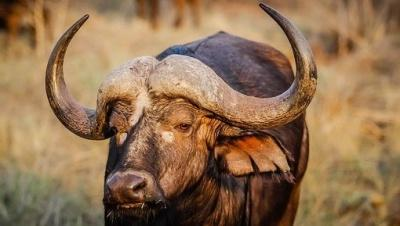buffalo: (45, 3, 318, 226)
